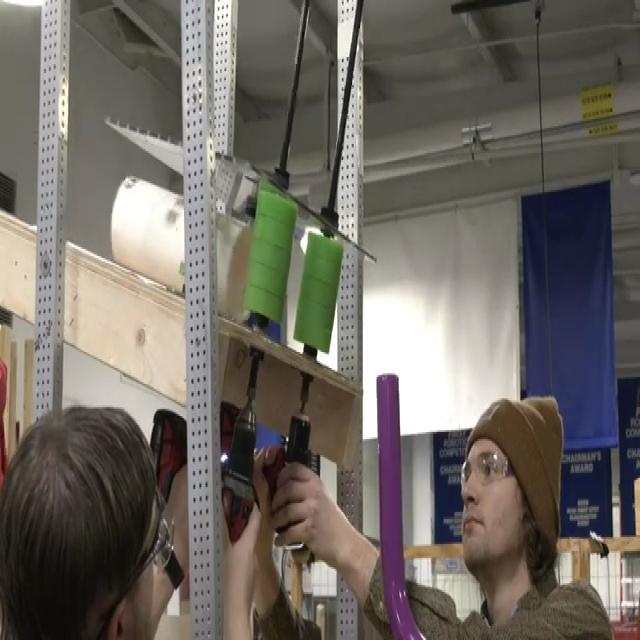Coral: (111, 175, 251, 312)
